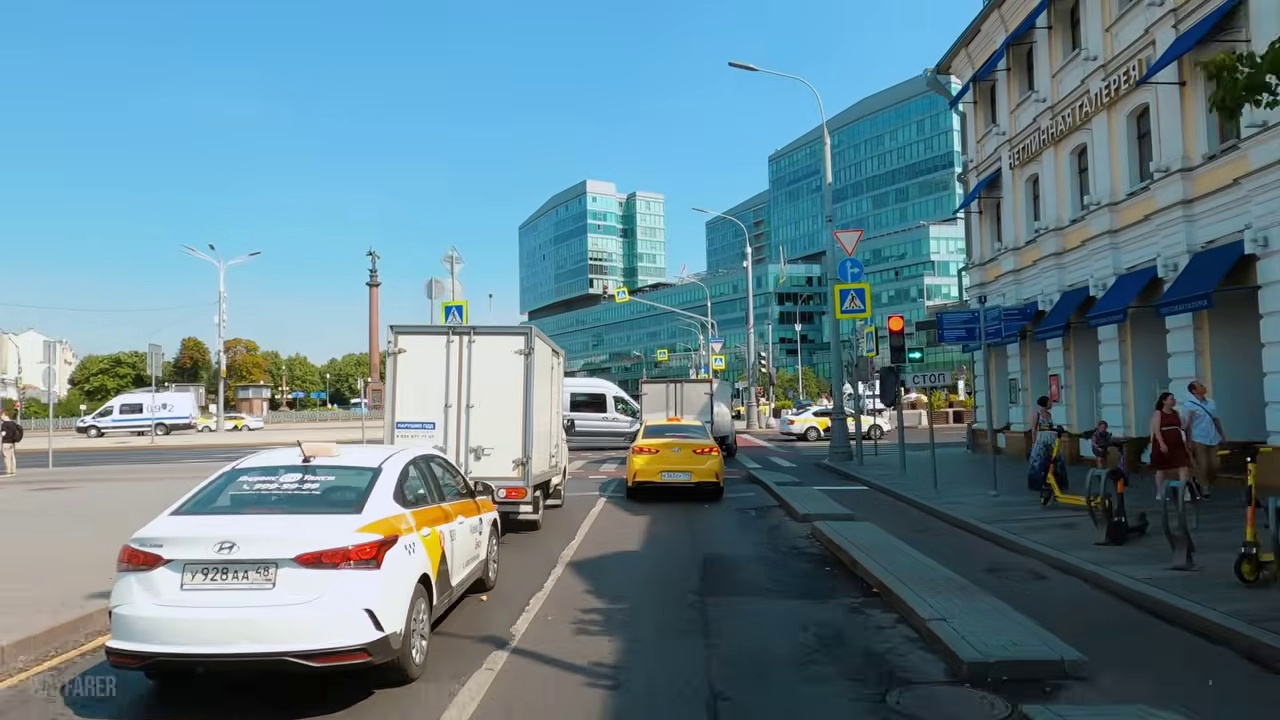apagada: (724, 57, 755, 77)
